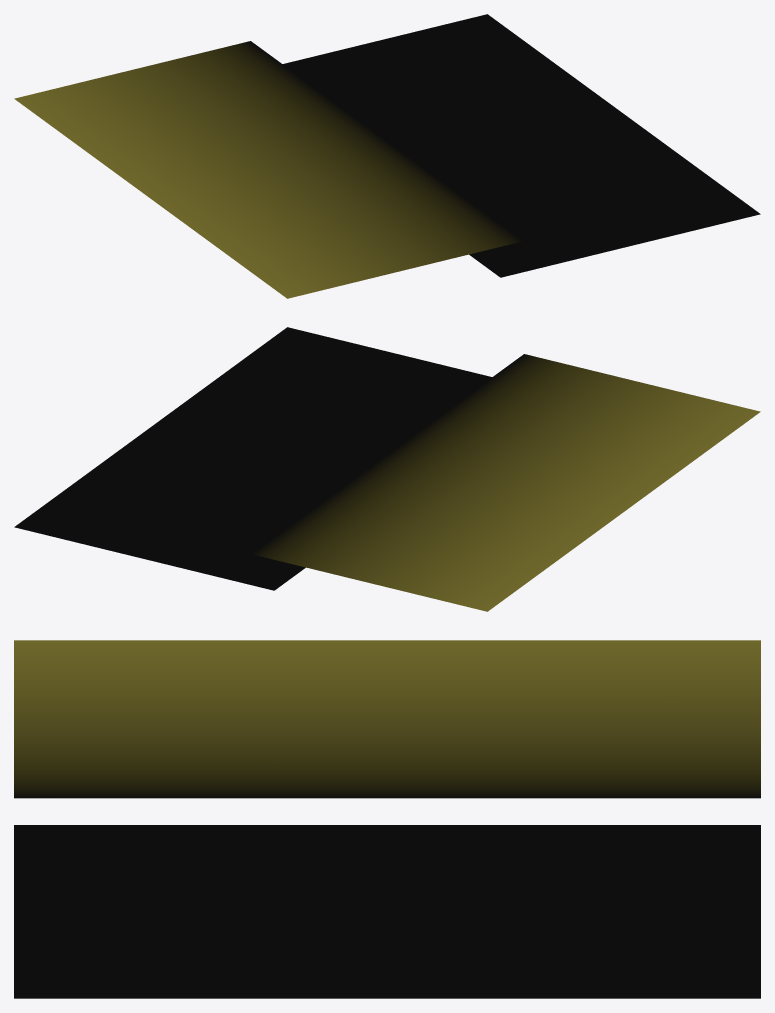
3 views of the same model, one above another, from view 1: azimuth 30°, elevation 25°; view 2: azimuth 150°, elevation 25°; view 3: azimuth 270°, elevation 25° (orthographic). The views are drawn at different scales.
Size of the model in its own units: 1 by 0.0625 by 1.
1 material, 1 textured.
